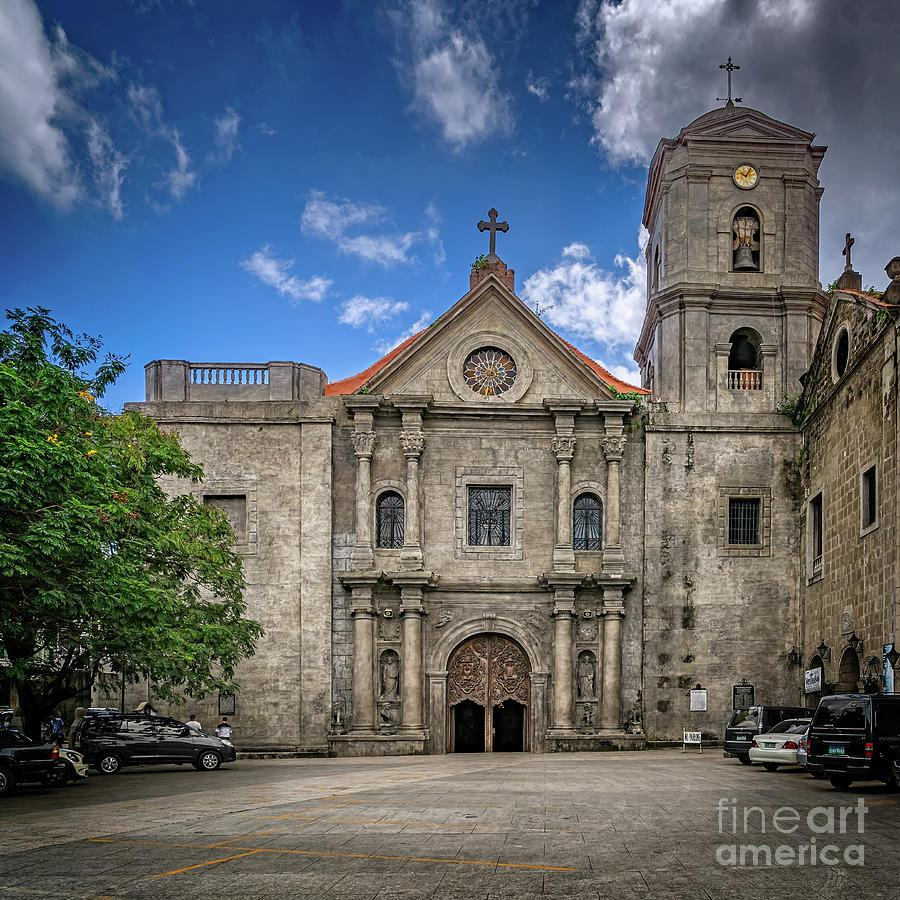Environmental Damage: (605, 380, 657, 427), (780, 450, 814, 514), (778, 390, 809, 421), (468, 249, 488, 284)
San Agustin Church: (325, 54, 831, 752)
